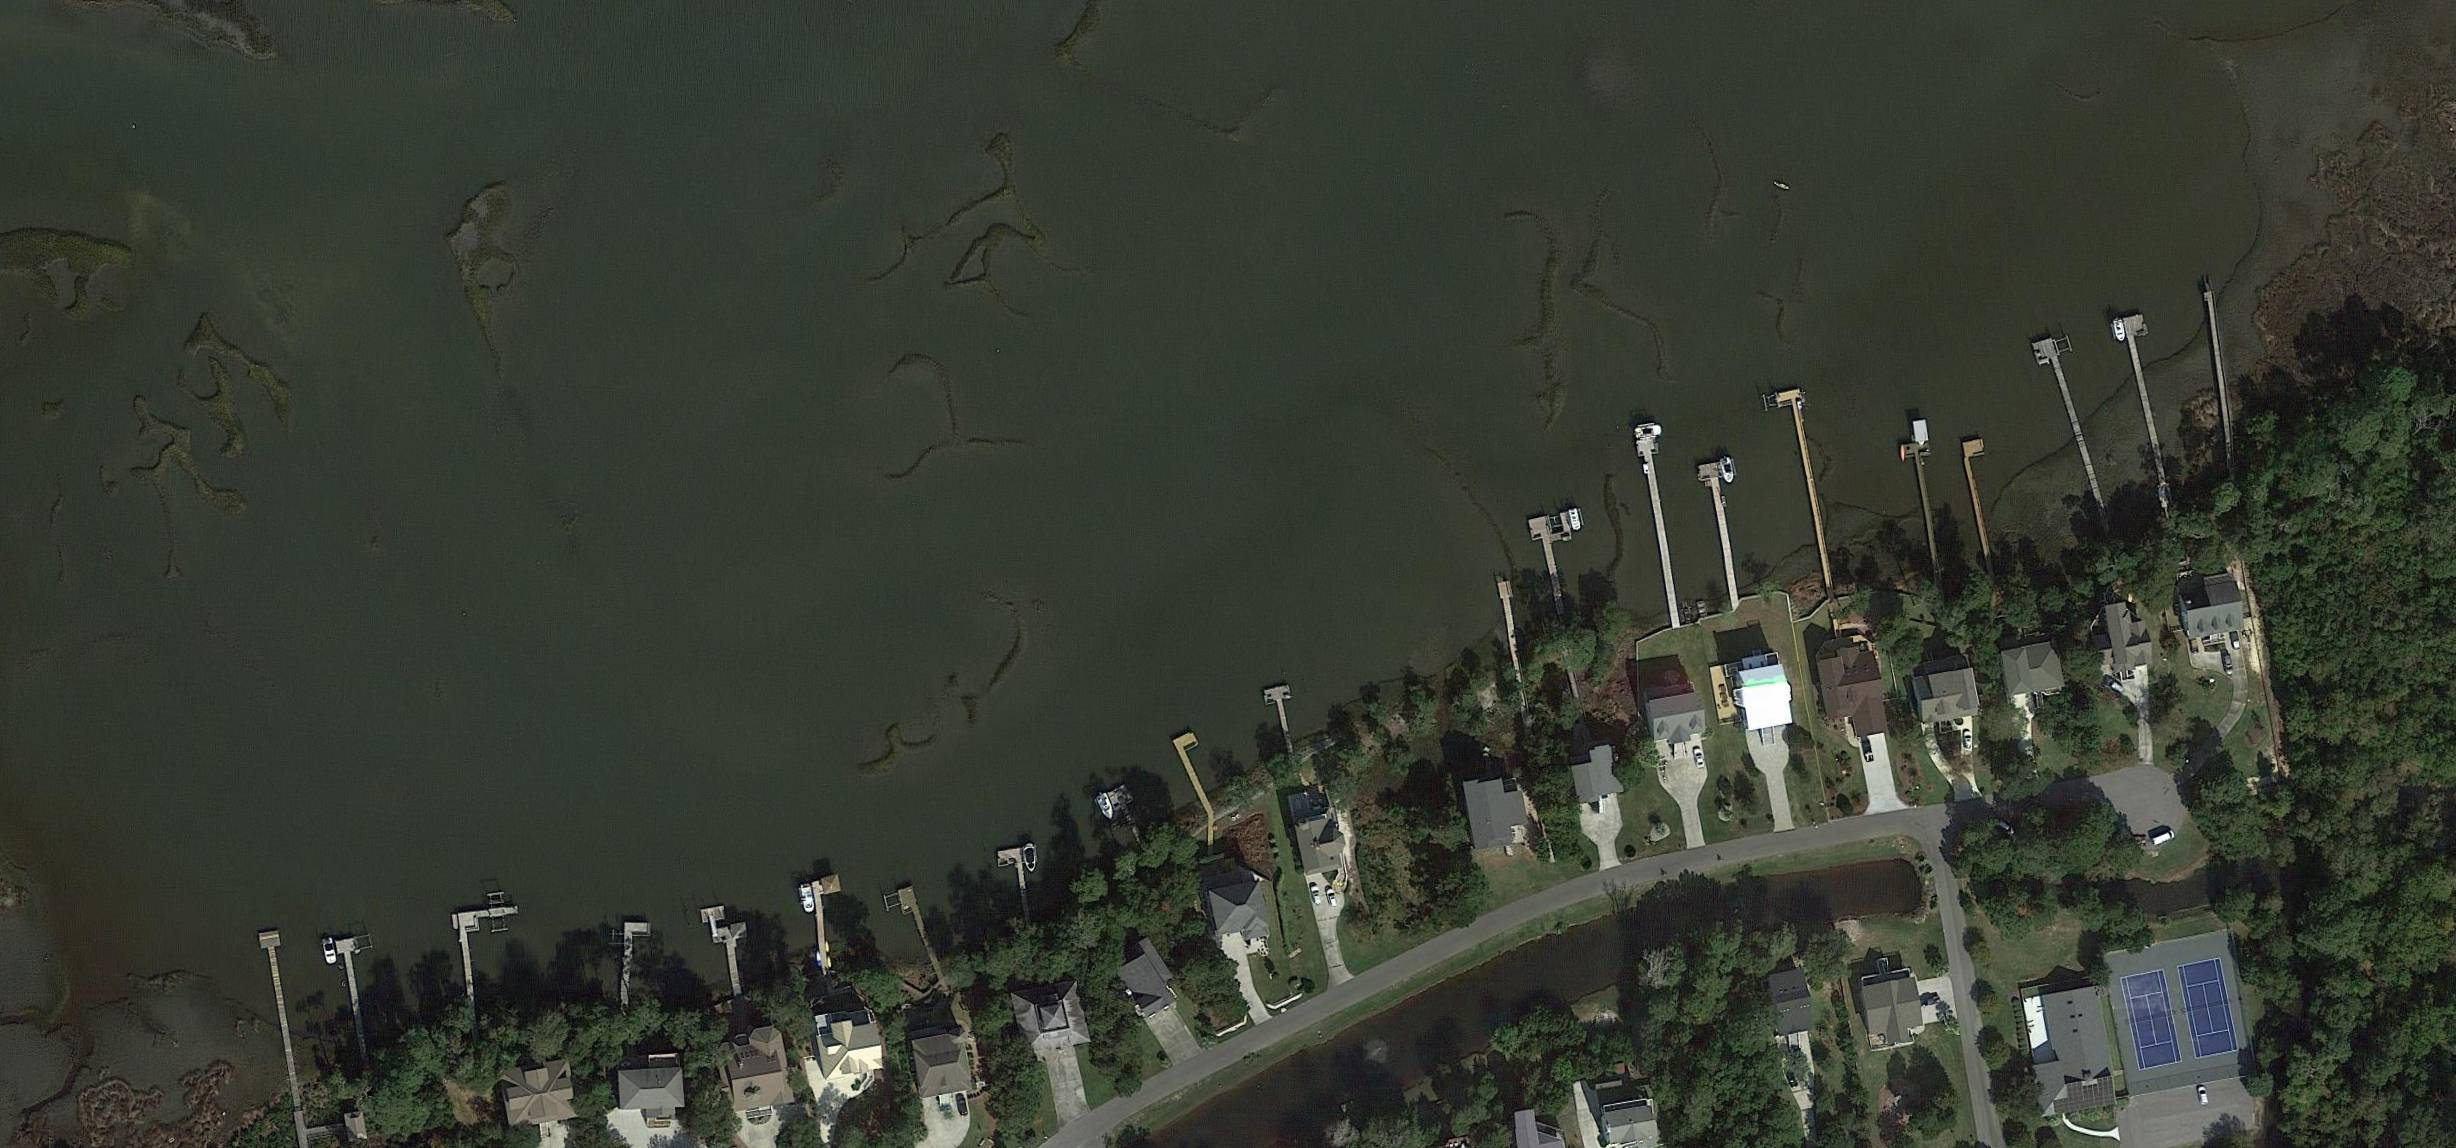harbor: (2032, 337, 2108, 520), (1772, 388, 1836, 576), (1526, 514, 1598, 662), (2122, 313, 2179, 484), (1635, 437, 1685, 619), (457, 905, 536, 1016), (258, 930, 307, 1106), (1897, 420, 1949, 575), (1696, 462, 1743, 598), (1959, 439, 2010, 565), (700, 902, 758, 1002), (2204, 291, 2235, 453), (335, 938, 374, 1060), (894, 886, 944, 980), (804, 874, 851, 968), (1172, 730, 1222, 803), (1104, 785, 1156, 846), (1262, 686, 1302, 756), (620, 922, 652, 1007), (1497, 581, 1526, 673), (996, 849, 1031, 922)
tennis court: (2177, 958, 2241, 1059), (2119, 969, 2183, 1070)
